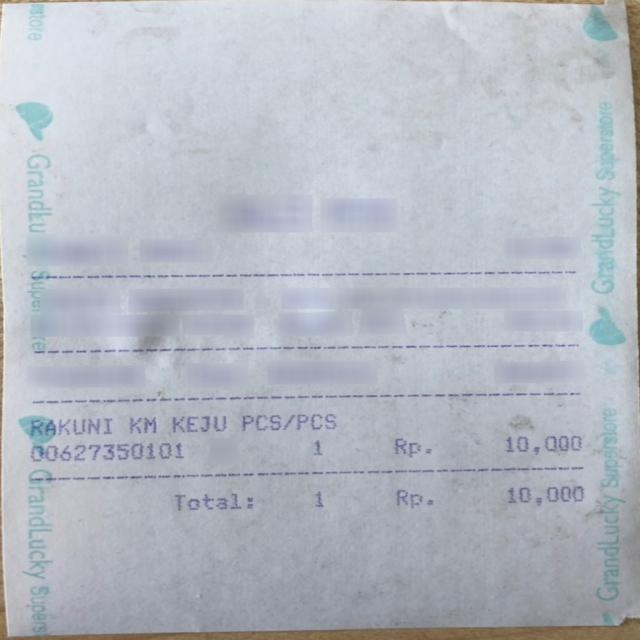text: (29, 438, 182, 460), (239, 412, 334, 430), (26, 417, 110, 437), (506, 484, 582, 505), (504, 435, 580, 455), (173, 492, 252, 510), (169, 414, 224, 432), (391, 437, 429, 458), (394, 488, 432, 508), (128, 417, 155, 432), (309, 437, 325, 455), (311, 490, 323, 508)
